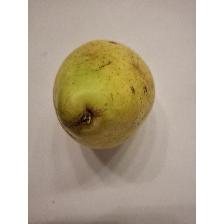Birne: (49, 38, 156, 152)
